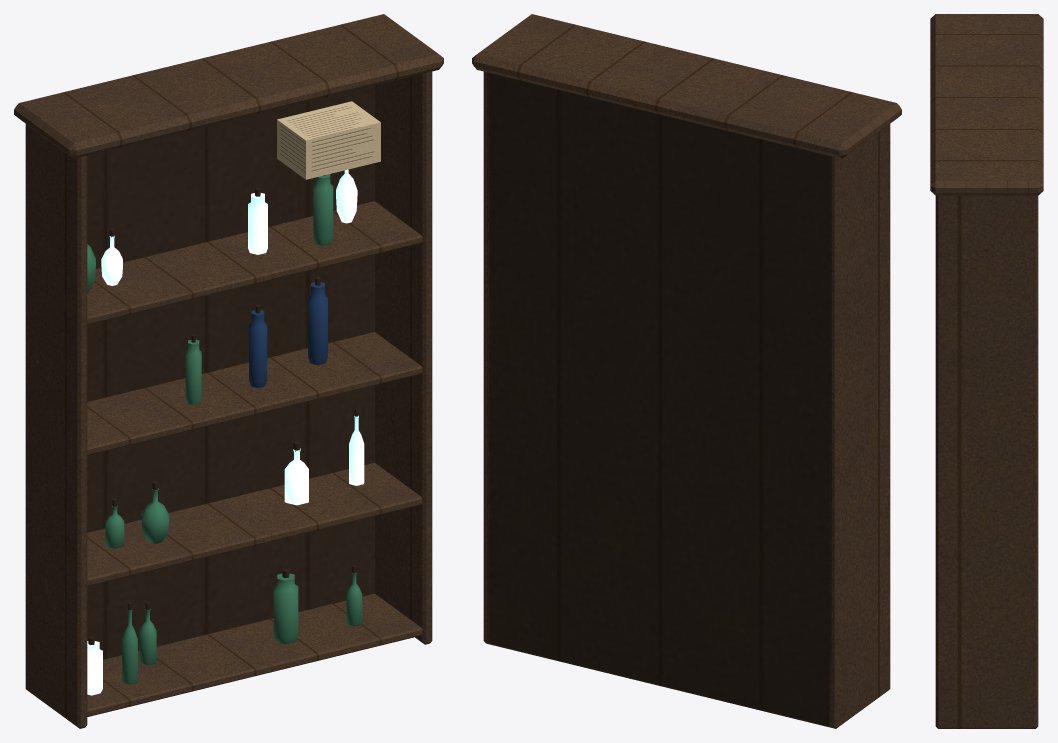
The model's file is apothecary_shelf_lod1.glb.
3 renders of one model, left to right at view 1: azimuth 30°, elevation 25°; view 2: azimuth 150°, elevation 25°; view 3: azimuth 270°, elevation 25°, orthographic. The views are drawn at different scales.
Parts seen in each view (by area): view 1: apothecary_shelf; view 2: apothecary_shelf; view 3: apothecary_shelf.
Boxes of the visible parts, x1,y1,x2,y2 form: apothecary_shelf: (14, 14, 443, 728); apothecary_shelf: (472, 14, 901, 728); apothecary_shelf: (930, 14, 1043, 728).
Size of the model in its own units: 1.5 by 2.25 by 0.42.
Materials: 1 (1 with a texture image).
